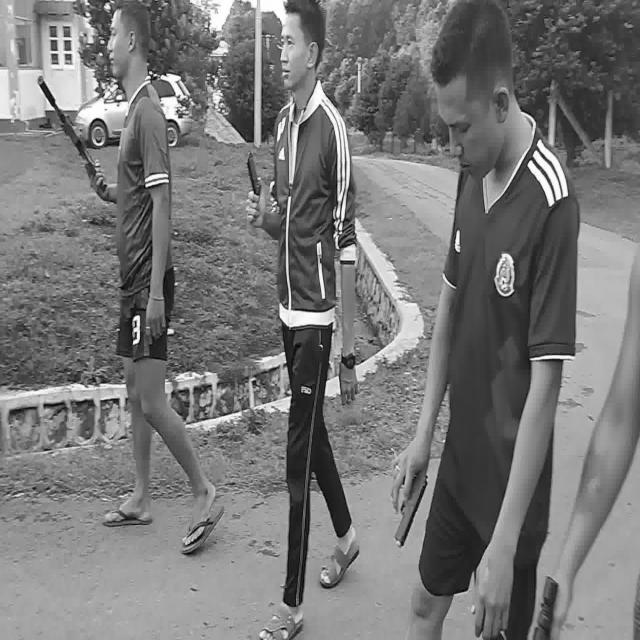gun: (38, 77, 108, 192), (394, 470, 428, 549)
